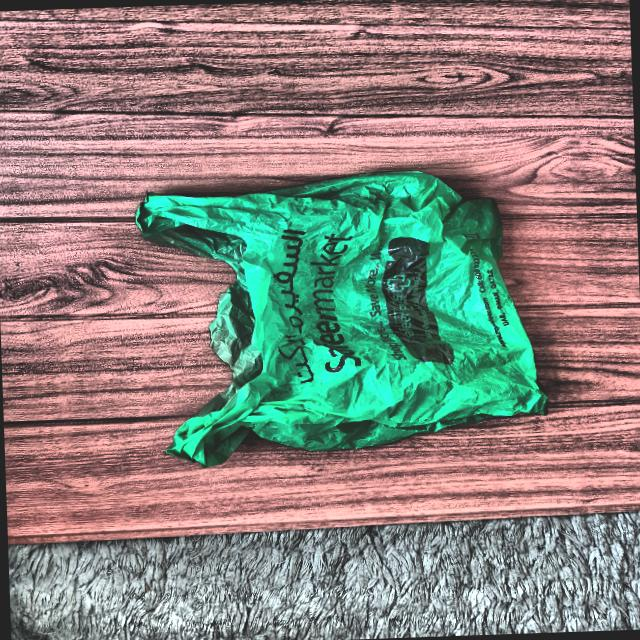plastic bag: (129, 166, 554, 472)
